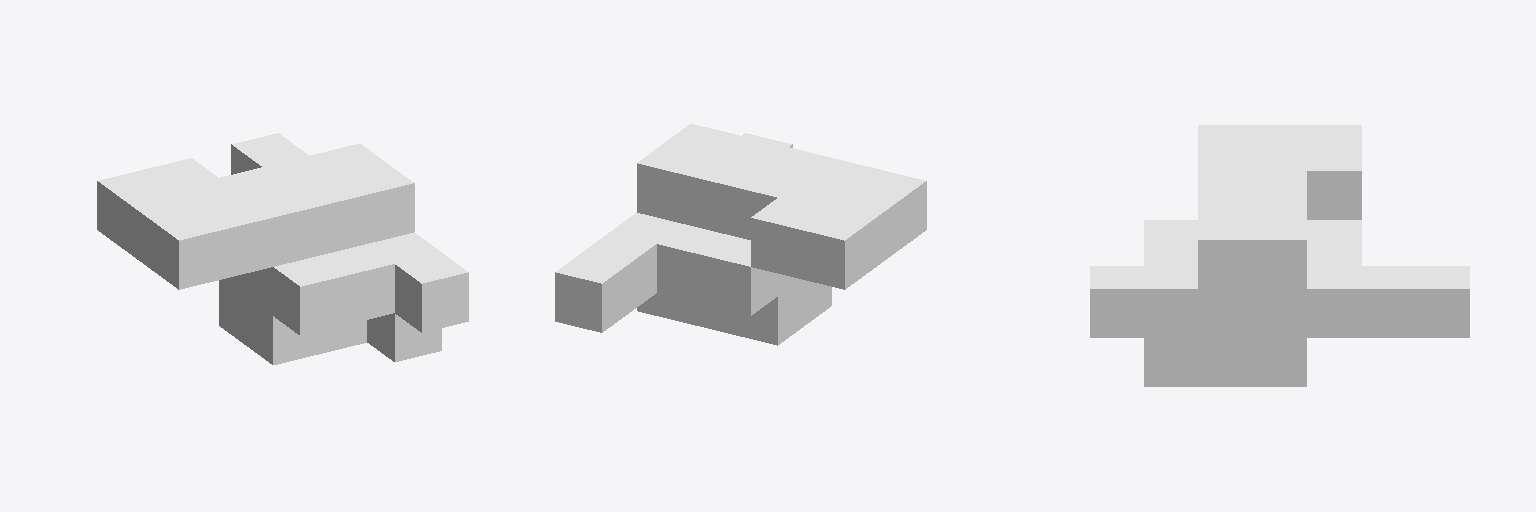
File: Extra-4-MicroRecon_Wing1_R.obj
The picture shows the model from 3 angles: view 1: azimuth 30°, elevation 25°; view 2: azimuth 150°, elevation 25°; view 3: azimuth 270°, elevation 25°; orthographic projection.
Parts seen in each view (by area): view 1: MicroRecon_Wing1_R; view 2: MicroRecon_Wing1_R; view 3: MicroRecon_Wing1_R.
Part boxes in pixels (bbox=[...]): MicroRecon_Wing1_R: bbox=[97, 133, 468, 364]; MicroRecon_Wing1_R: bbox=[555, 124, 926, 345]; MicroRecon_Wing1_R: bbox=[1090, 125, 1469, 386].
Size of the model in its own units: 0.5 by 0.3 by 0.7.